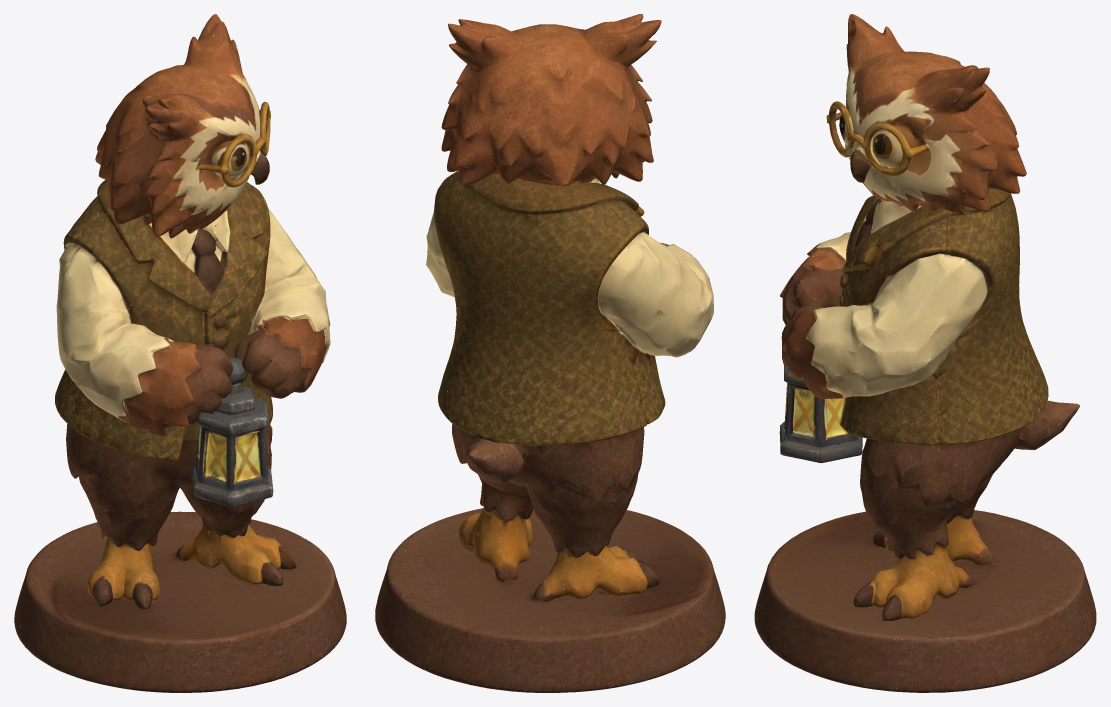
File: owl.glb
3 views of the same model, side by side, from view 1: azimuth 30°, elevation 25°; view 2: azimuth 150°, elevation 25°; view 3: azimuth 270°, elevation 25° (orthographic). The views are drawn at different scales.
Visible parts, largest first — view 1: owl; view 2: owl; view 3: owl.
Part boxes in pixels (bbox=[...]): owl: bbox=[14, 14, 346, 692]; owl: bbox=[375, 14, 725, 692]; owl: bbox=[754, 14, 1096, 692].
Bounding box in the file's own units: 0.5281 × 1 × 0.5279.
Materials: 1 (1 with a texture image).
